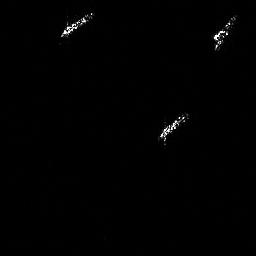ship: (156, 110, 192, 148), (211, 14, 236, 53), (59, 11, 93, 39)
